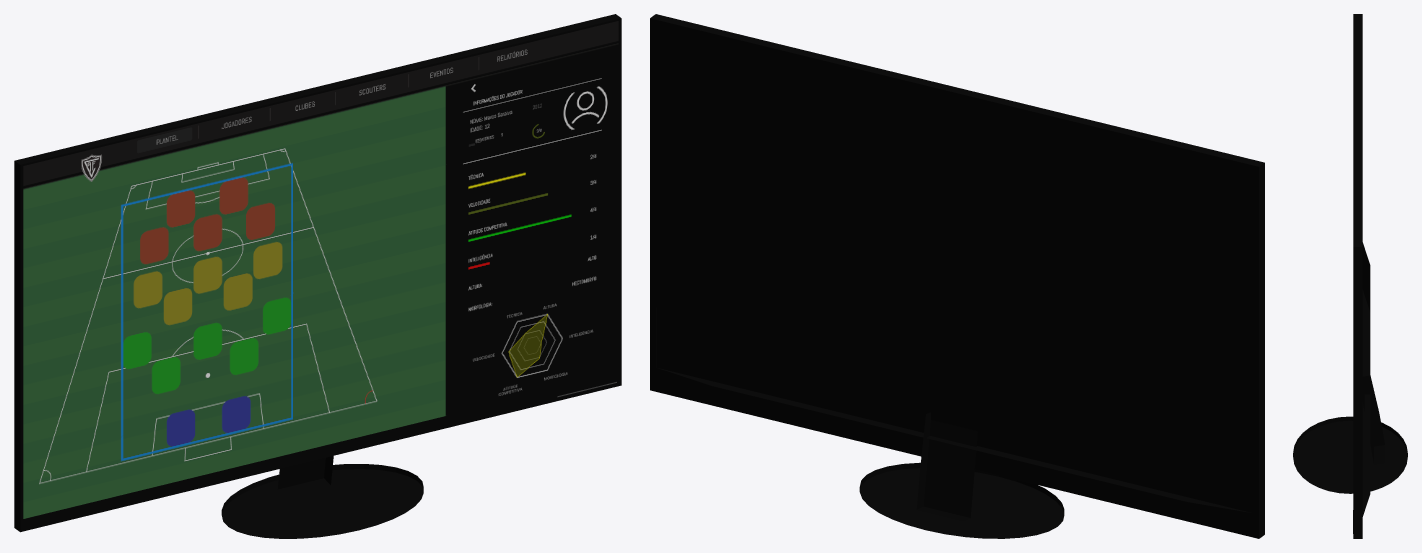
The model's file is Monitor.glb.
The picture shows the model from 3 angles, left to right: view 1: azimuth 30°, elevation 25°; view 2: azimuth 150°, elevation 25°; view 3: azimuth 270°, elevation 25°; orthographic projection. The views are drawn at different scales.
Visible parts, largest first — view 1: Monitor; view 2: Monitor; view 3: Monitor.
Boxes of the visible parts, x1,y1,x2,y2 form: Monitor: [14, 14, 621, 538]; Monitor: [650, 14, 1264, 538]; Monitor: [1293, 14, 1407, 538].
Bounding box in the file's own units: 1.94 × 1.27 × 0.4043.
3 materials, 1 textured.
